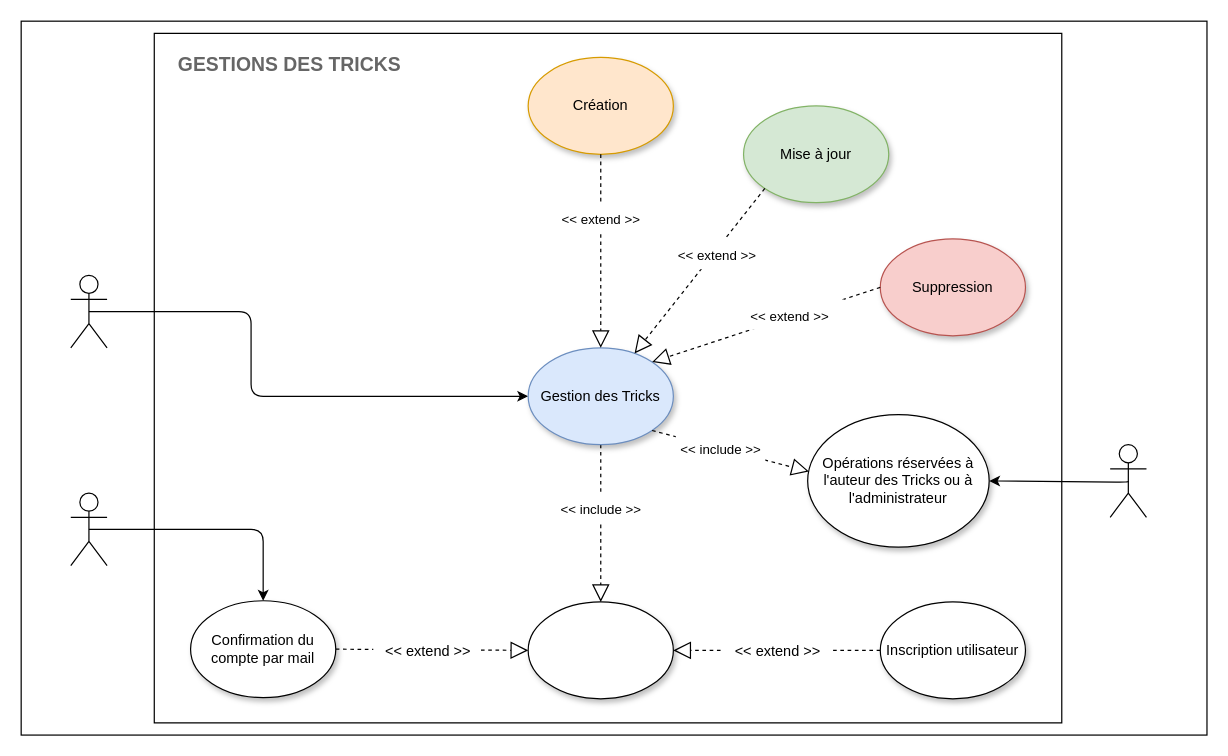
Image size: 1228x756. Some labels were removed from this diagram. Each missing label, with the centre of its shape:
<<System>> Base de données: pixel 1127 480
<<System>> Mailer: pixel 88 529
Authentification utilisateur: pixel 601 651
Membre: pixel 88 311
